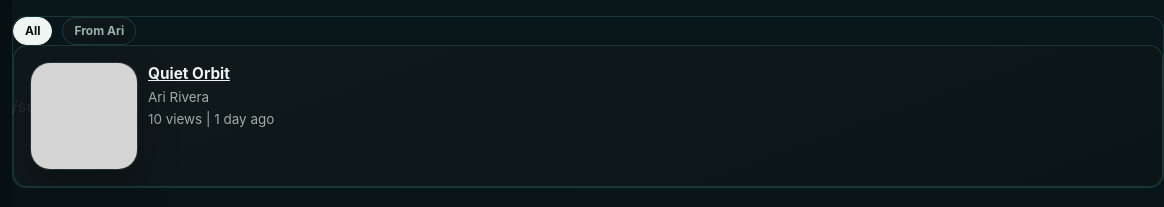
Scenario: SceneRecommendationRail creator links › opens the creator profile when their display name is clicked
This screenshot has width=1164, height=207.
Click the link "Ari Rivera": (179, 97) [148, 88, 209, 106]
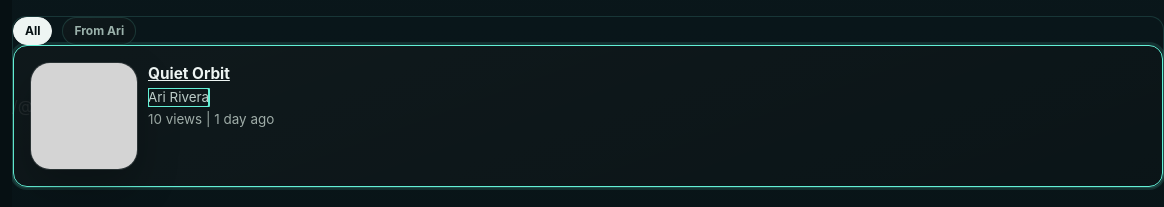
Now the text with test id "location" reads "/@aririvera", box [12, 96, 95, 116]
